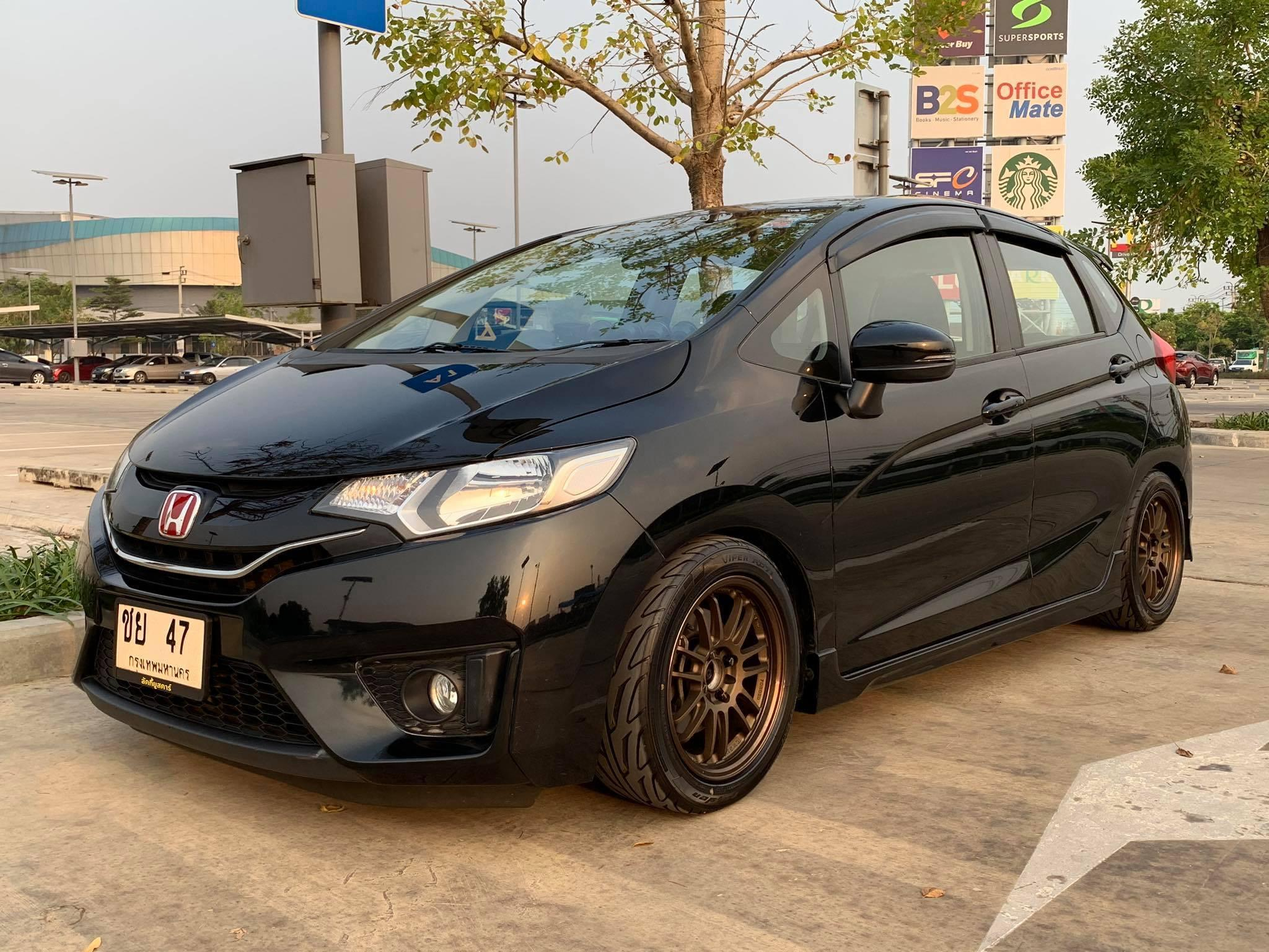Hatchback: (44, 182, 1213, 838)
